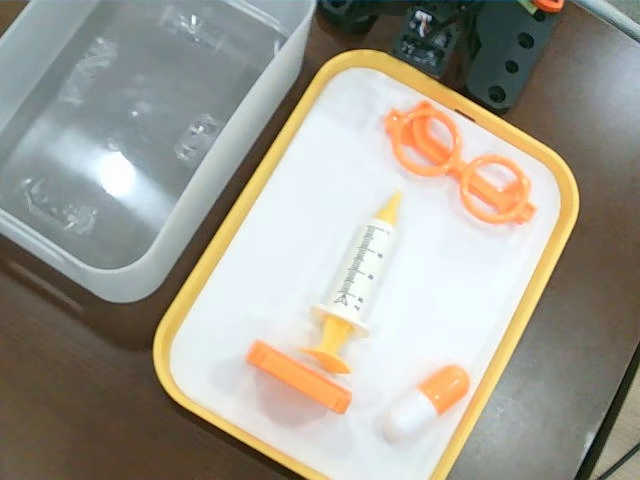pill: (381, 365, 471, 446)
syringe: (301, 189, 403, 378)
